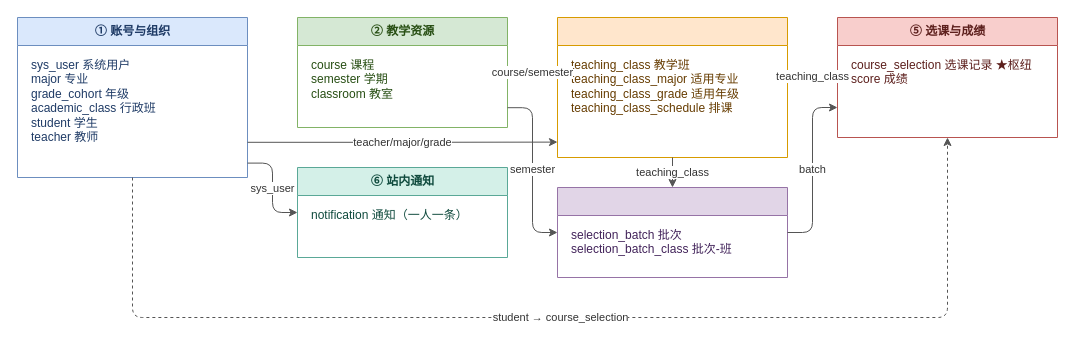
Image size: 1075x343. Some labels were removed from this diagram. The shapes that lost their labels are listed below. From the top down, each one's box as (x1, y1, x2, y2) in pixels, then its label:
(556, 16, 788, 158): ③ 开课与排课
(556, 186, 788, 278): ④ 选课批次
